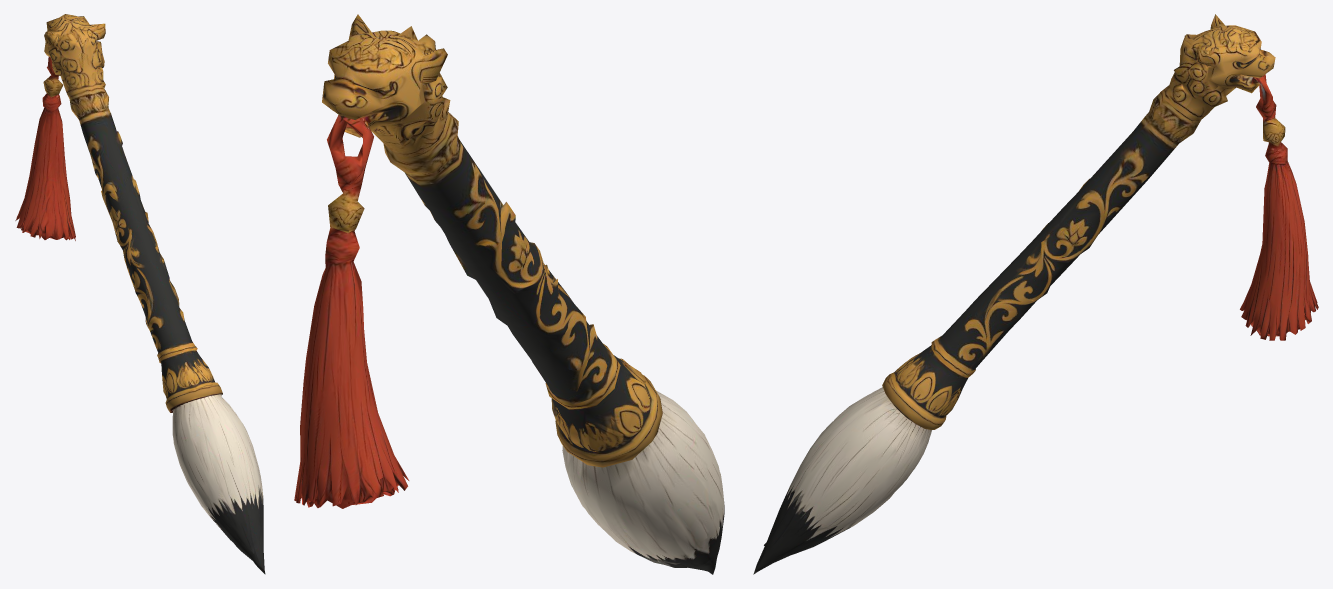
File: brush.glb
3 views of the same model, side by side, from view 1: azimuth 30°, elevation 25°; view 2: azimuth 150°, elevation 25°; view 3: azimuth 270°, elevation 25° (orthographic). The views are drawn at different scales.
Visible parts, largest first — view 1: kusuriuri; view 2: kusuriuri; view 3: kusuriuri.
Part boxes in pixels (x1=…): kusuriuri: x1=15, y1=14, x2=265, y2=574; kusuriuri: x1=294, y1=14, x2=724, y2=574; kusuriuri: x1=753, y1=14, x2=1318, y2=574.
Bounding box in the file's own units: 0.076 × 0.45 × 0.4264.
Materials: 1 (1 with a texture image).
